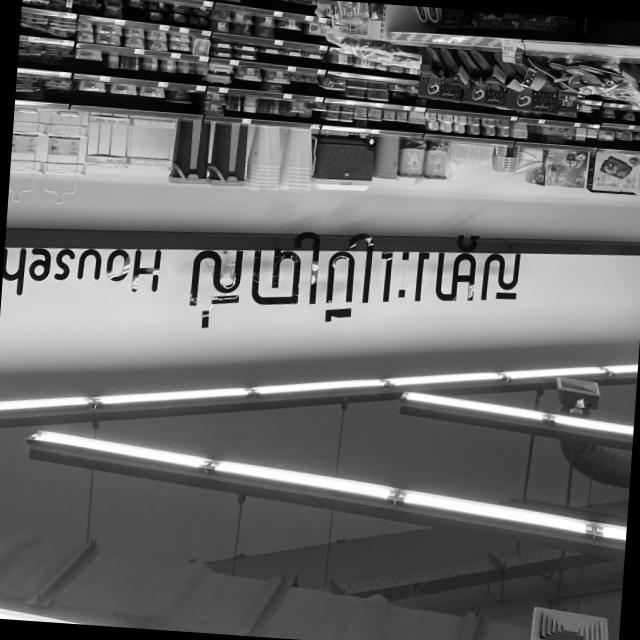Yolov11_80vkh: (170, 212, 527, 329)
